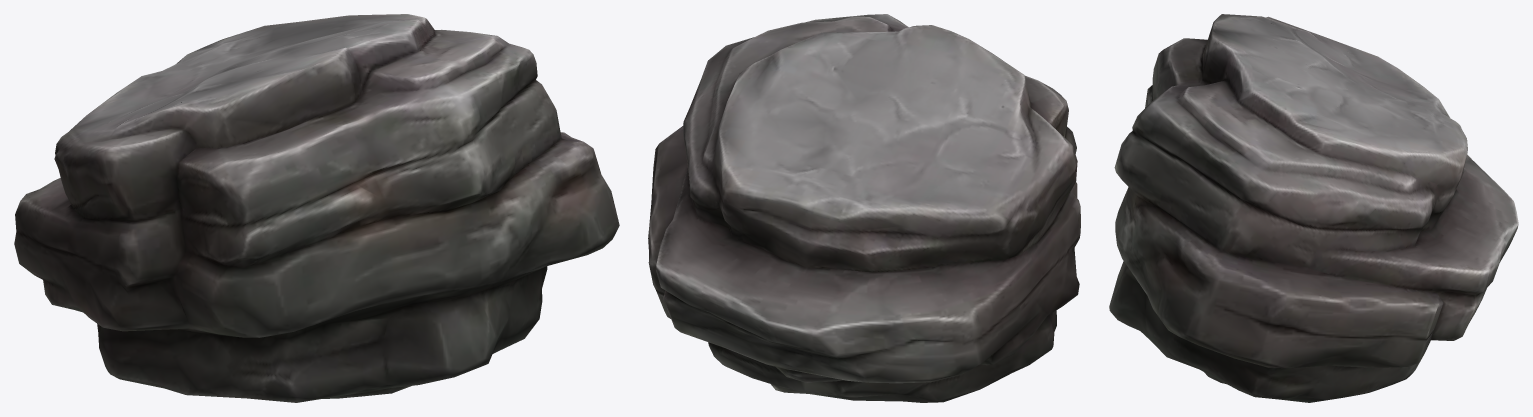
Rendered from stone_mid_3.glb.
3 views of the same model, side by side, from view 1: azimuth 30°, elevation 25°; view 2: azimuth 150°, elevation 25°; view 3: azimuth 270°, elevation 25° (orthographic). The views are drawn at different scales.
Parts seen in each view (by area): view 1: Mid_3; view 2: Mid_3; view 3: Mid_3.
Boxes of the visible parts, x1=… form: Mid_3: x1=14, y1=14, x2=619, y2=402; Mid_3: x1=648, y1=14, x2=1080, y2=402; Mid_3: x1=1109, y1=14, x2=1518, y2=402.
Bounding box in the file's own units: 4.13 × 3.05 × 3.59.
1 material, 1 textured.
